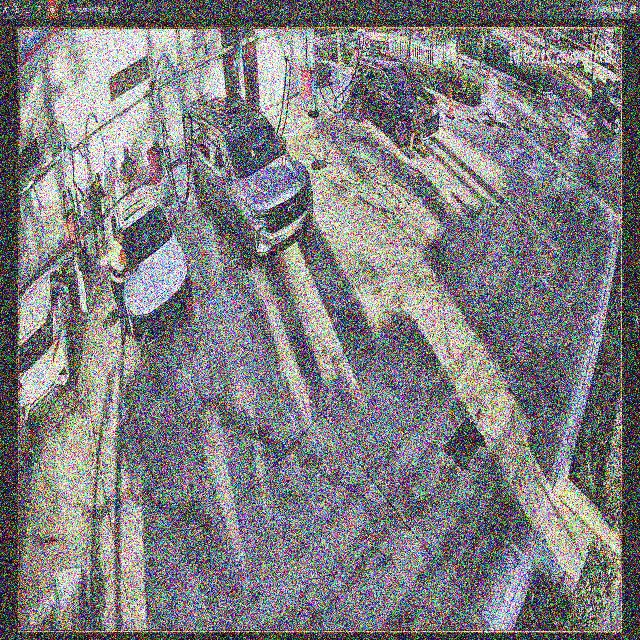Car: (187, 102, 313, 270), (109, 184, 193, 340)
